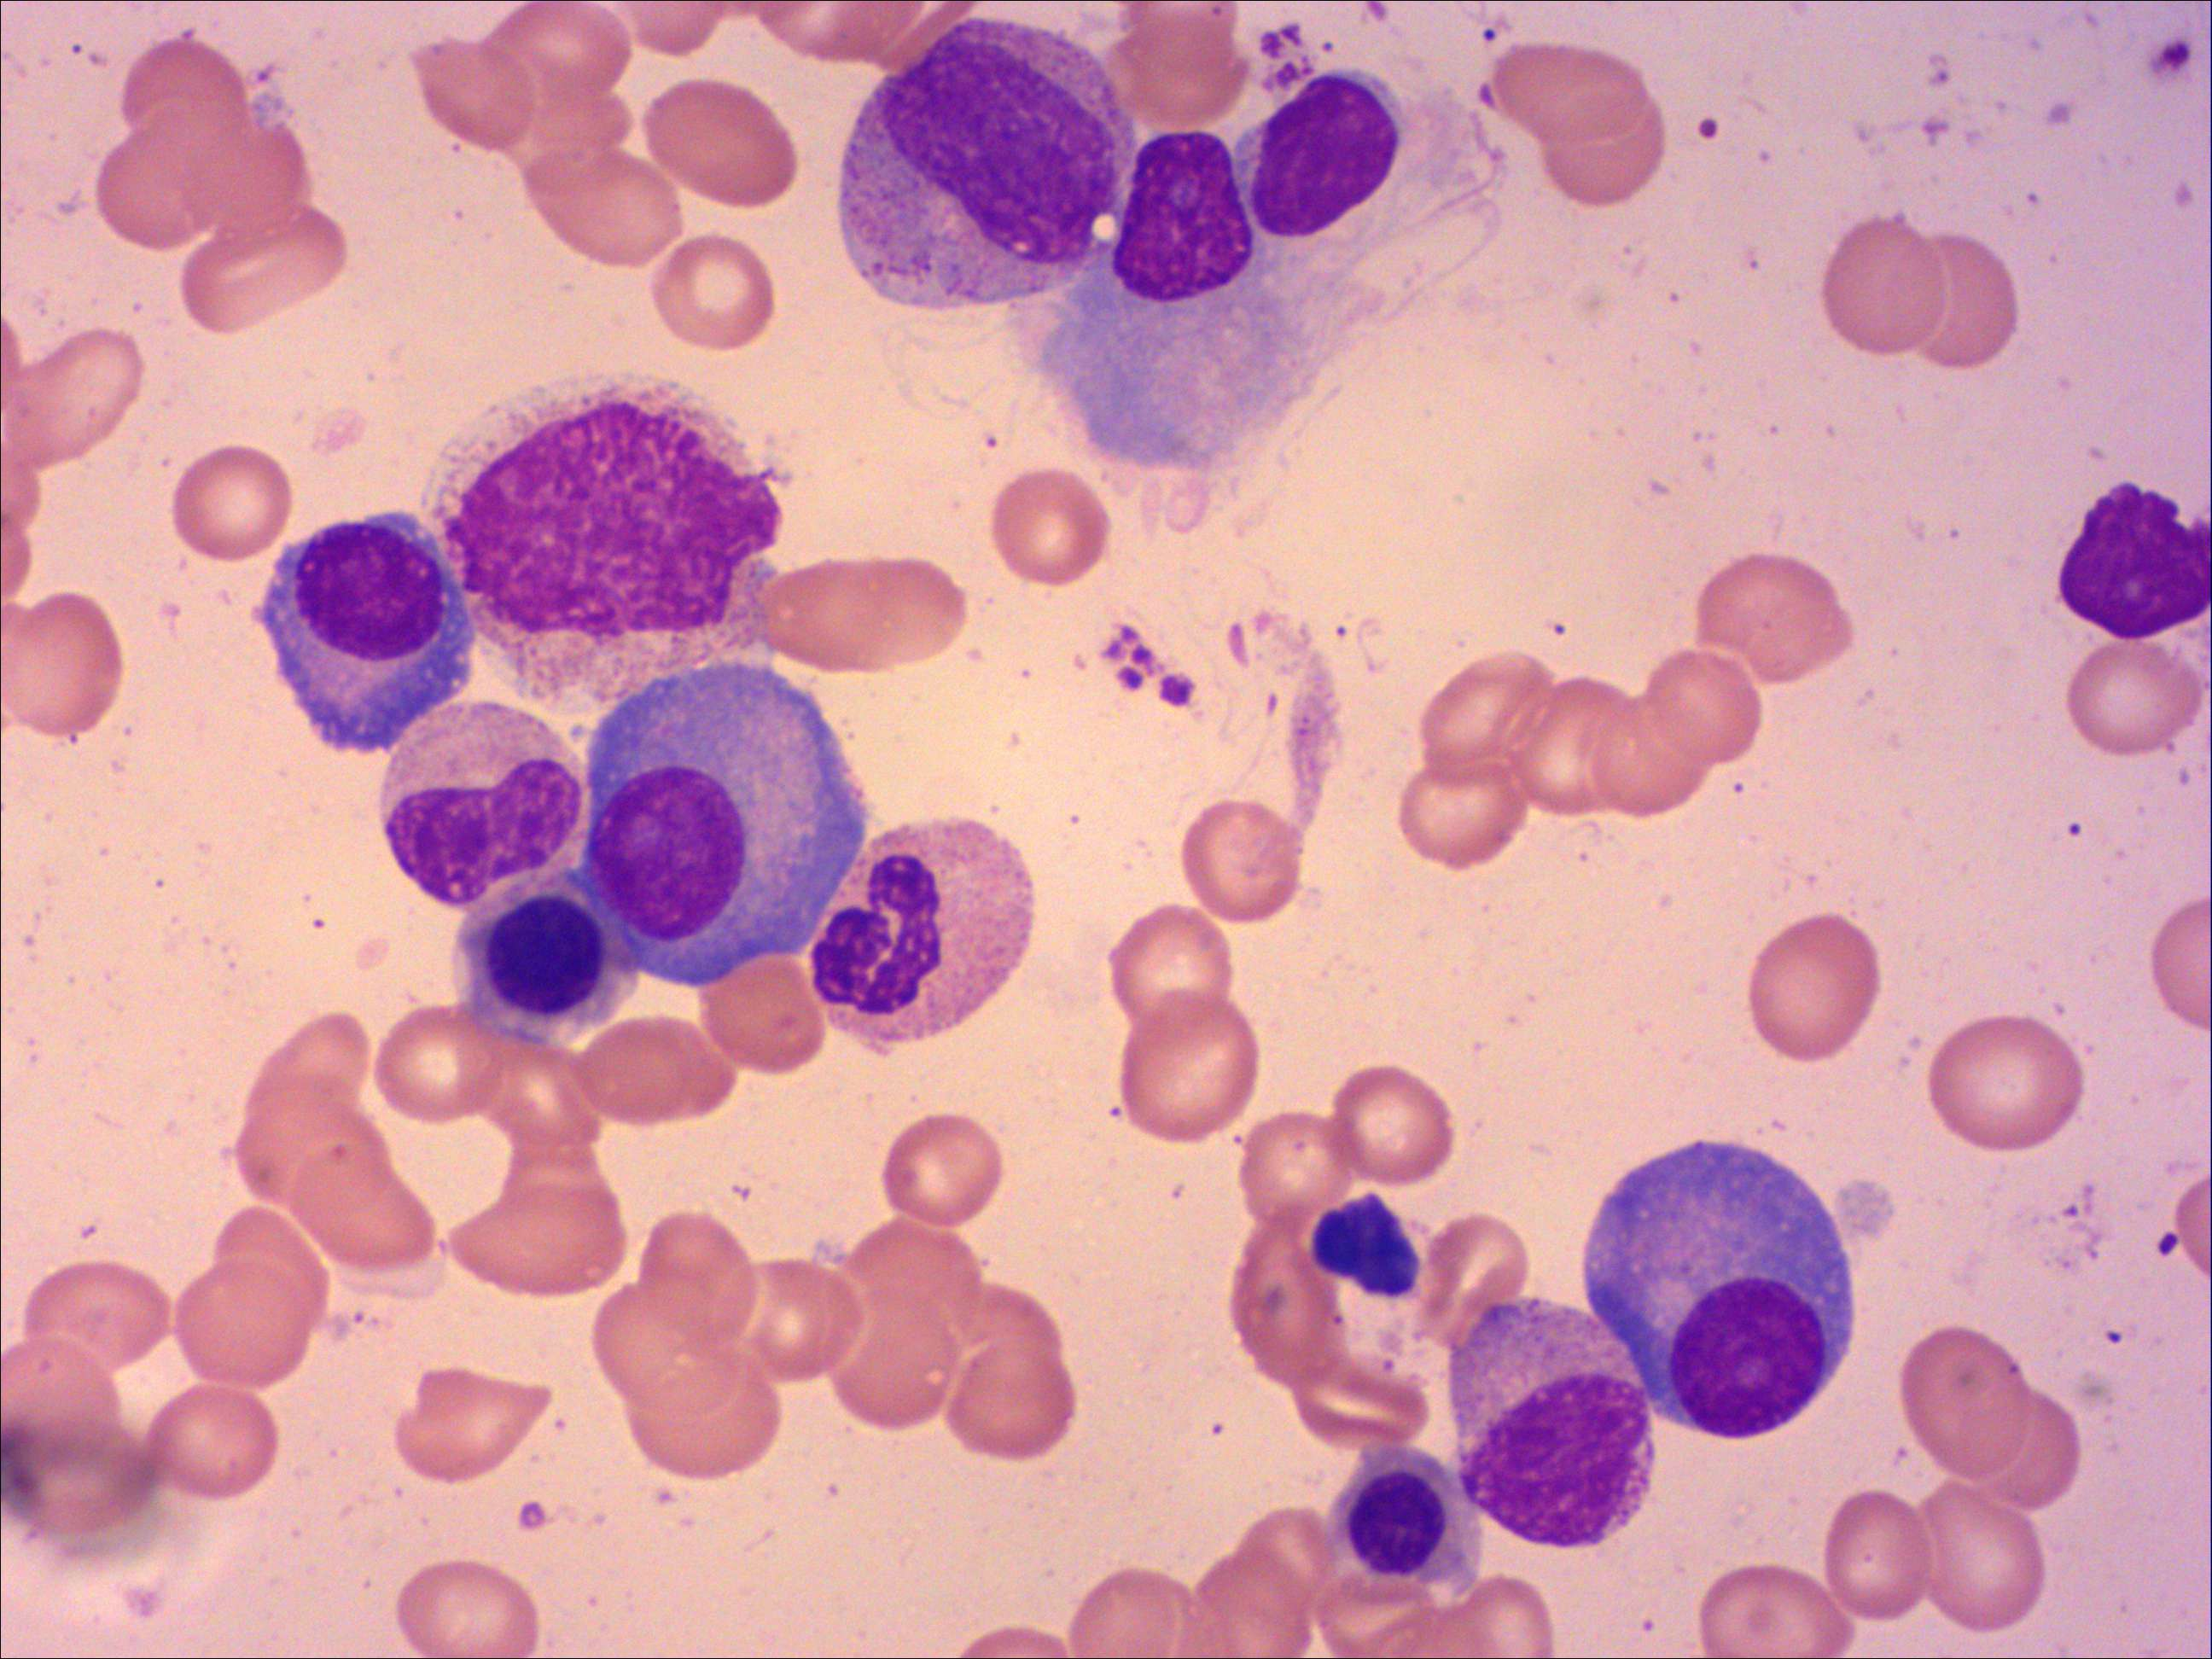24: (1318, 1438, 1491, 1615)
3: (833, 14, 1146, 321), (1444, 1291, 1660, 1553)
32: (1224, 63, 1423, 249)
4: (374, 695, 594, 917)
51: (564, 660, 874, 995), (1580, 1136, 1862, 1446), (249, 505, 481, 760)
6: (801, 812, 1040, 1061)
x: (413, 364, 791, 723), (448, 866, 644, 1058), (1101, 124, 1271, 312), (2054, 476, 2212, 648), (1296, 1182, 1433, 1314)
